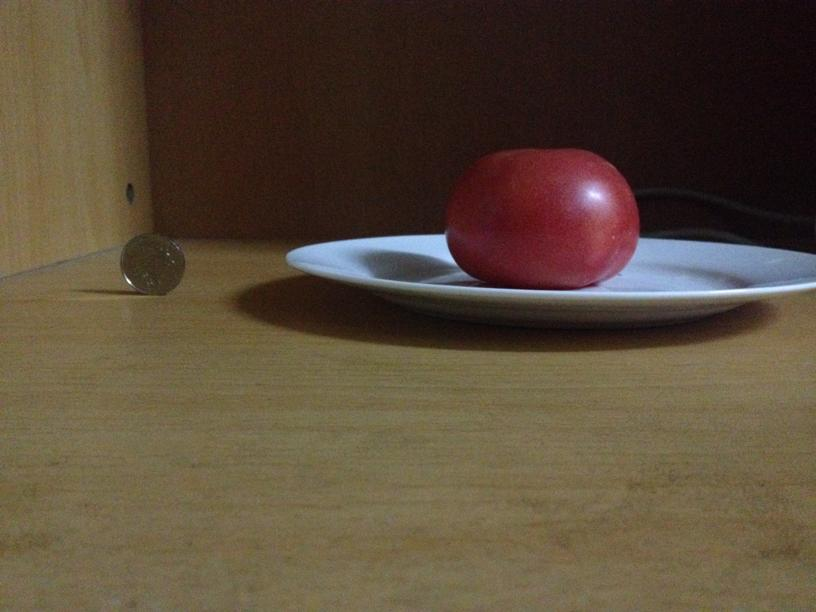coin: (114, 232, 186, 292)
tomato: (440, 153, 635, 286)
